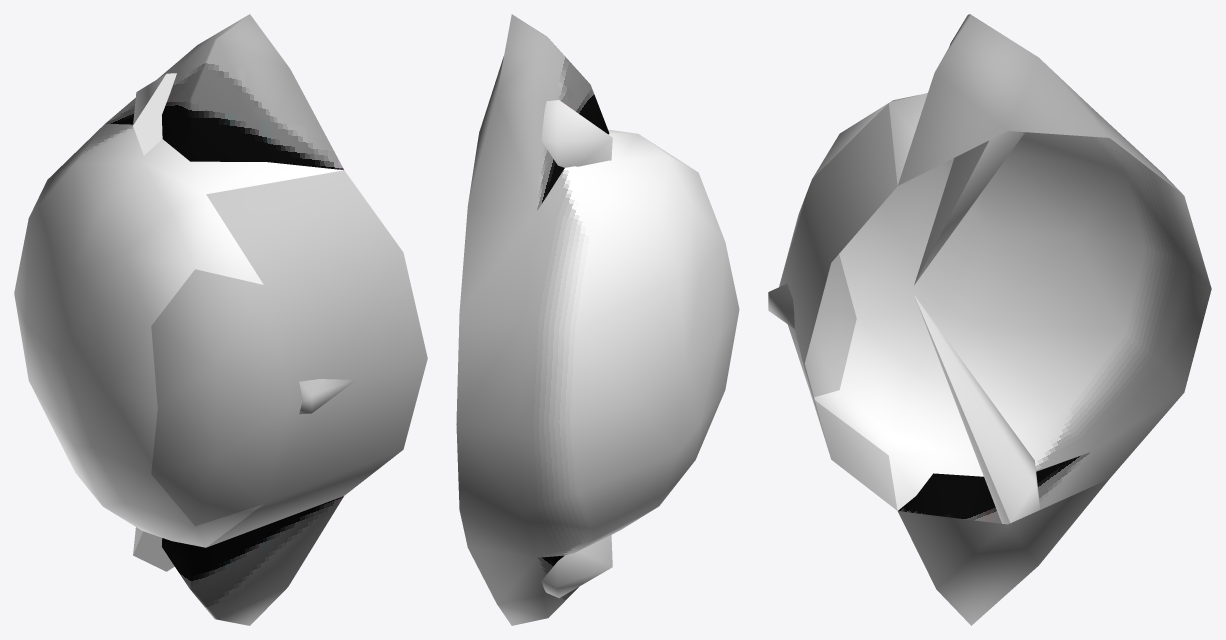
Rendered from girl00b.dae.
The picture shows the model from 3 angles, left to right: view 1: azimuth 30°, elevation 25°; view 2: azimuth 150°, elevation 25°; view 3: azimuth 270°, elevation 25°; orthographic projection.
Parts seen in each view (by area): view 1: vsn_mesh_1_, vsn_mesh_0_, vsn_mesh_2_; view 2: vsn_mesh_1_; view 3: vsn_mesh_1_, vsn_mesh_0_, vsn_mesh_2_.
Part boxes in pixels (x1,y1,x2,y2): vsn_mesh_1_: [14, 14, 343, 625]; vsn_mesh_0_: [206, 170, 427, 547]; vsn_mesh_2_: [151, 269, 290, 526]; vsn_mesh_1_: [456, 14, 739, 625]; vsn_mesh_1_: [812, 14, 1211, 625]; vsn_mesh_0_: [768, 103, 897, 510]; vsn_mesh_2_: [779, 181, 856, 397].
Bounding box in the file's own units: 15.5 × 32.8 × 21.59.
Materials: 3 (1 with a texture image).
